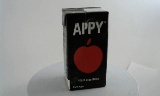appy: (56, 5, 102, 90)
